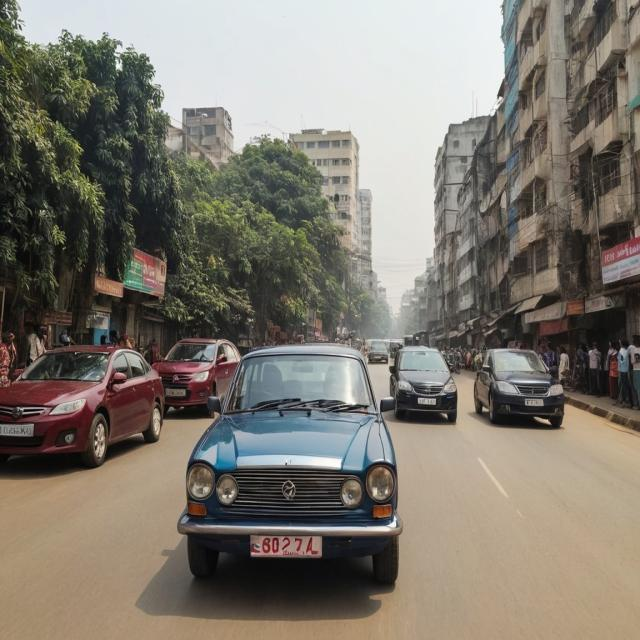black: (475, 344, 563, 426), (392, 346, 462, 427)
blue: (184, 343, 404, 587)
maroon: (0, 344, 167, 470), (145, 337, 241, 410)
